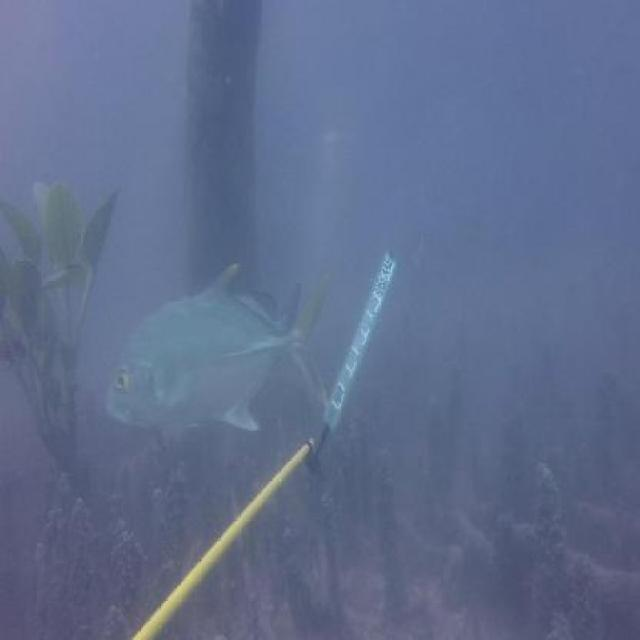Caranx: (103, 257, 339, 434)
acanthopagrus_palmaris: (230, 283, 305, 337)
